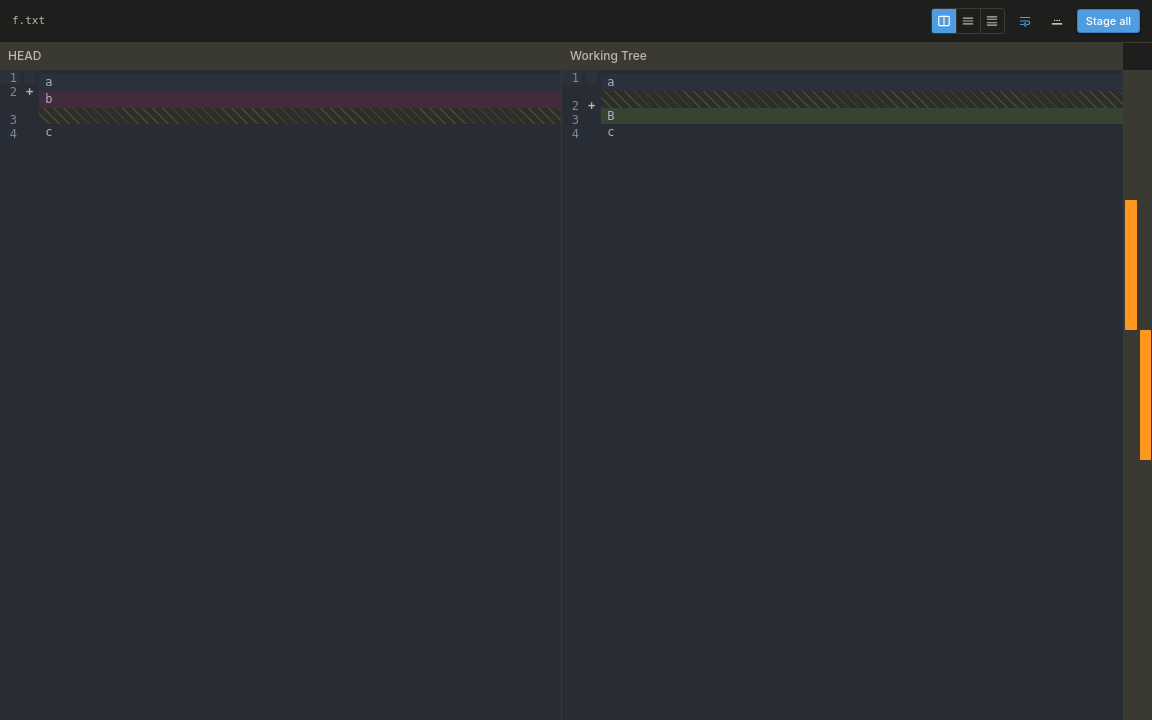
Test: StageFileEditor › switches to a hunk view with an @@ header and change decorations
Step 1. Click the button named "Hunk view" → x=992, y=21, box [980,9,1004,33]
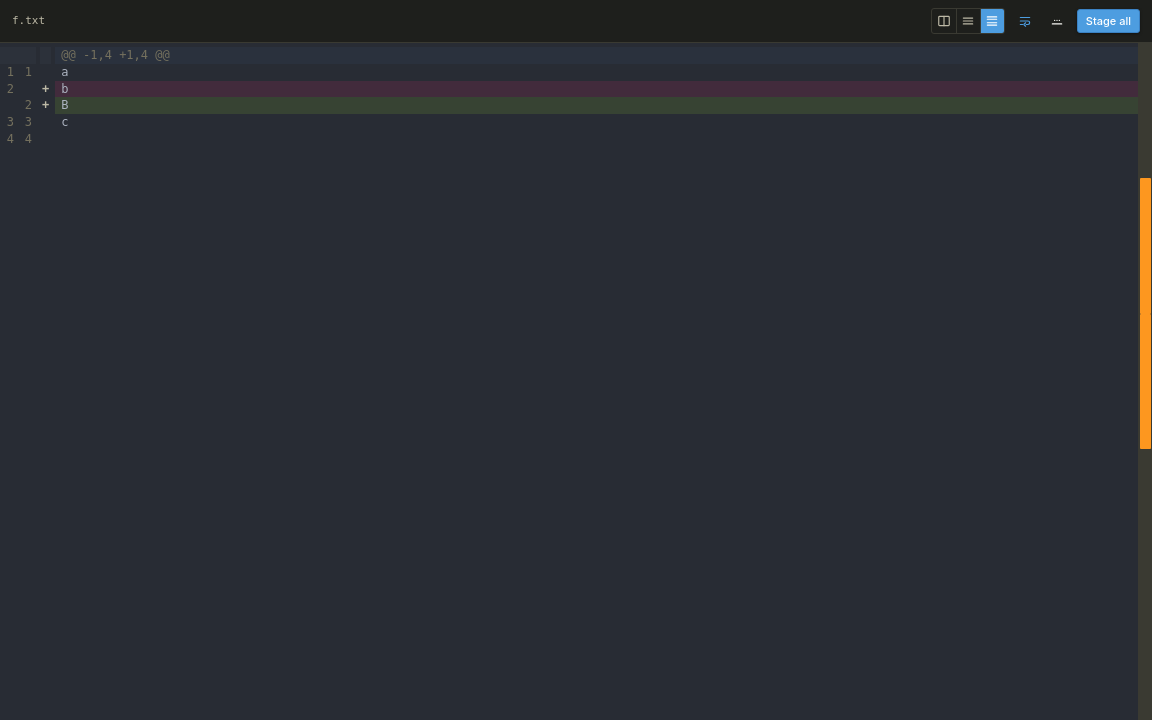
expect the text box with class "cm-diff-add-line" is shown: met, box [55,97,1138,114]
expect the text box with class "cm-diff-hunk-header" is shown: met, box [55,47,1138,64]
